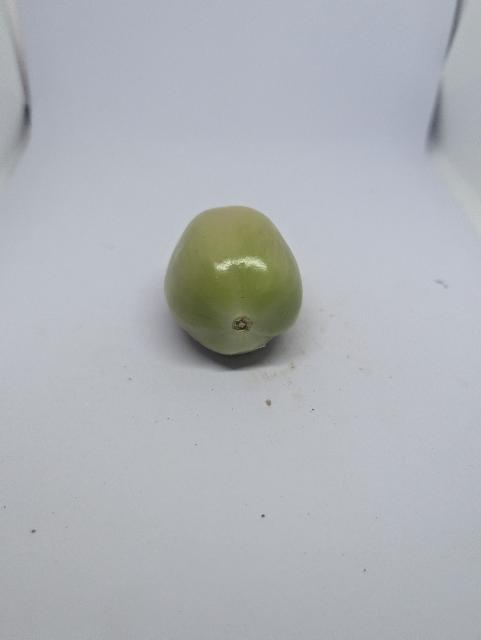green: (162, 204, 308, 358)
